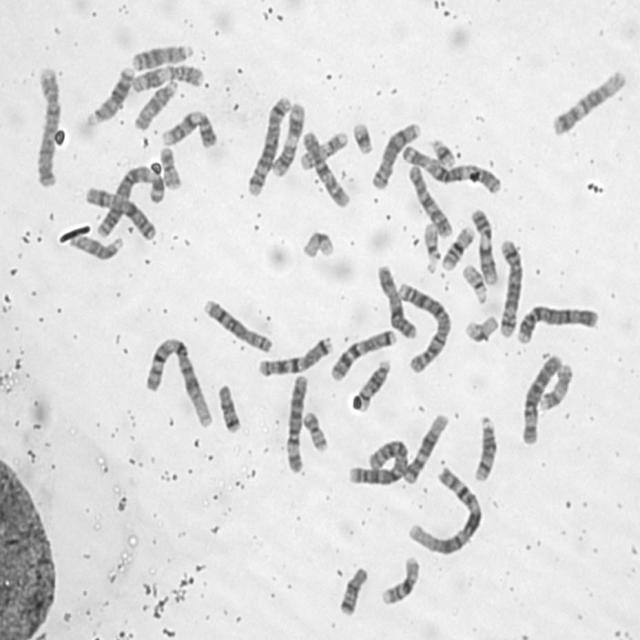A1: (402, 461, 483, 557), (141, 331, 216, 430)
A2: (392, 277, 452, 375), (344, 435, 410, 486)
A3: (398, 140, 503, 195), (92, 162, 167, 238)
B4: (30, 62, 62, 189), (512, 300, 601, 344)
B5: (244, 90, 293, 198), (495, 235, 525, 338)
C10: (299, 127, 352, 209), (404, 160, 455, 238)
C11: (269, 97, 309, 178), (128, 60, 208, 94)
C12: (547, 64, 627, 137), (400, 408, 450, 485)
C6: (518, 349, 564, 446), (281, 369, 310, 474)
C7: (327, 324, 398, 382), (253, 331, 335, 378)
C8: (198, 294, 274, 355), (368, 117, 423, 192)
C9: (467, 204, 500, 286), (157, 106, 219, 149)
D13: (82, 61, 136, 128), (128, 39, 195, 72)
D14: (351, 355, 393, 412), (469, 410, 499, 483)
D15: (132, 75, 181, 132), (66, 230, 125, 262)
E16: (377, 551, 421, 607), (437, 221, 476, 272)
E17: (296, 127, 349, 170), (536, 359, 575, 412)
E18: (336, 562, 370, 617), (214, 378, 243, 434)
F19: (461, 310, 499, 344), (298, 226, 336, 260)
F20: (298, 407, 330, 453), (156, 142, 184, 191)
G21: (348, 117, 376, 156), (427, 134, 458, 169)
G22: (459, 259, 490, 304), (420, 218, 442, 274)
X: (81, 182, 158, 242), (374, 260, 418, 340)
